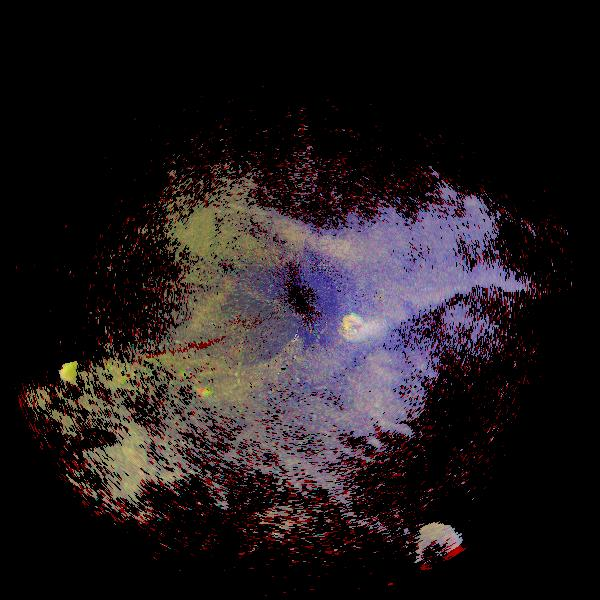roost: (401, 509, 476, 584), (334, 310, 373, 349), (53, 354, 92, 393), (97, 361, 127, 391), (188, 381, 209, 402)
